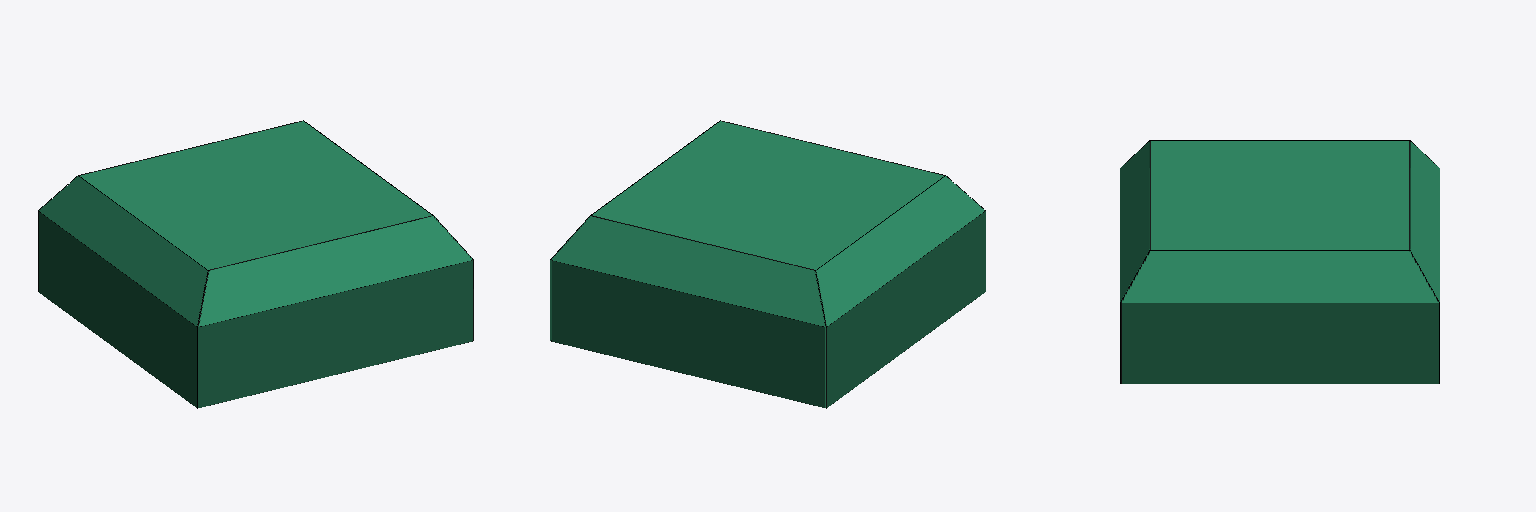
3 renders of one model, left to right at view 1: azimuth 30°, elevation 25°; view 2: azimuth 150°, elevation 25°; view 3: azimuth 270°, elevation 25°, orthographic.
Parts seen in each view (by area): view 1: Cube; view 2: Cube; view 3: Cube.
Boxes of the visible parts, box(x1,y1,x2,y2) form: Cube: box(38, 120, 473, 408); Cube: box(550, 120, 985, 408); Cube: box(1120, 140, 1439, 383).
Size of the model in its own units: 2 by 0.8355 by 2.
1 materials, 1 textured.